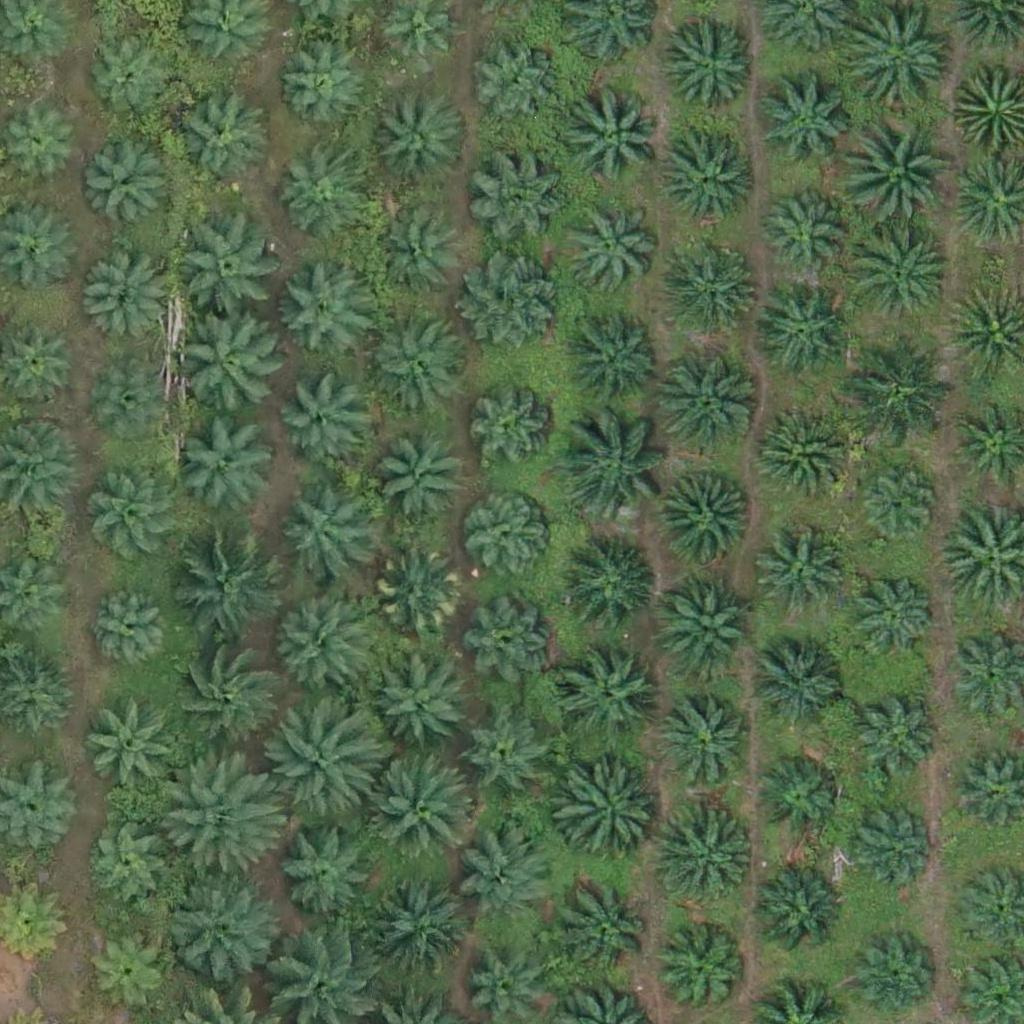Kelapa_Sawit: (171, 310, 284, 424), (561, 414, 674, 527), (846, 330, 959, 443), (846, 5, 959, 118), (270, 710, 382, 824), (171, 534, 283, 648), (367, 756, 479, 869), (163, 869, 275, 982), (163, 754, 275, 867), (167, 641, 279, 754), (845, 219, 957, 332), (840, 109, 952, 222), (749, 404, 849, 505), (751, 633, 851, 734), (747, 865, 847, 966), (657, 809, 757, 910), (561, 537, 661, 638), (557, 649, 657, 750), (557, 765, 657, 866), (372, 654, 472, 755), (271, 815, 371, 916), (183, 415, 283, 516), (82, 699, 182, 800), (168, 93, 268, 194), (183, 218, 283, 319), (367, 313, 467, 414), (467, 146, 567, 247), (465, 250, 565, 351), (568, 85, 668, 186), (561, 200, 661, 301), (565, 309, 665, 410), (659, 352, 759, 453), (658, 128, 758, 229), (751, 72, 851, 173), (754, 284, 854, 385), (656, 471, 756, 571), (657, 576, 757, 676), (559, 881, 659, 981), (460, 825, 560, 925), (367, 881, 467, 981), (266, 597, 366, 697), (274, 256, 374, 356), (666, 239, 766, 339), (661, 15, 761, 115), (84, 585, 172, 674), (857, 461, 945, 549), (846, 568, 934, 656), (850, 696, 938, 784), (843, 798, 931, 886), (759, 529, 847, 617), (659, 931, 747, 1019), (276, 375, 364, 463), (277, 491, 365, 579), (92, 475, 180, 563), (81, 925, 169, 1013), (275, 46, 363, 134), (377, 90, 465, 178), (472, 40, 560, 128), (850, 933, 937, 1021), (755, 751, 842, 839), (664, 695, 751, 783), (467, 389, 554, 477), (464, 498, 551, 586), (467, 597, 554, 685), (464, 714, 551, 802), (374, 550, 461, 638), (373, 435, 460, 523), (84, 823, 171, 911), (86, 38, 173, 126), (85, 147, 172, 235), (82, 255, 169, 343), (274, 153, 361, 241), (372, 211, 459, 299), (761, 186, 848, 274), (96, 365, 171, 441)
